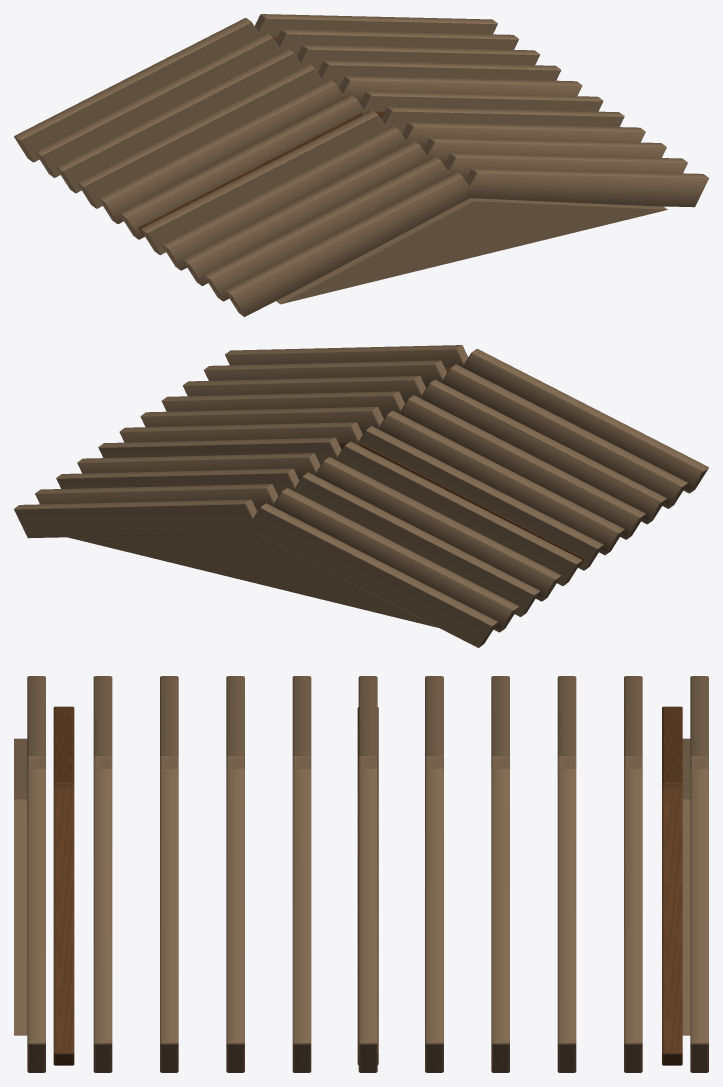
The model's file is retreat_expanded_a2_roof.glb.
The picture shows the model from 3 angles, top to bottom: view 1: azimuth 30°, elevation 25°; view 2: azimuth 150°, elevation 25°; view 3: azimuth 270°, elevation 25°; orthographic projection. The views are drawn at different scales.
Visible parts, largest first — view 1: CANON_Gabled_Roof_-1, CANON_Gabled_Roof_1, CANON_Gable_3.1; view 2: CANON_Gabled_Roof_-1, CANON_Gabled_Roof_1, CANON_Gable_-0.1; view 3: CANON_Gabled_Roof_1, CANON_Gabled_Roof_-1, CANON_Gable_3.1, CANON_Gable_-0.1.
Boxes of the visible parts, x1,y1,x2,y2 form: CANON_Gabled_Roof_-1: (14,18,474,316); CANON_Gabled_Roof_1: (254,14,708,207); CANON_Gable_3.1: (276,198,667,304); CANON_Gabled_Roof_-1: (247,349,708,647); CANON_Gabled_Roof_1: (14,345,468,538); CANON_Gable_-0.1: (68,533,438,627); CANON_Gabled_Roof_1: (27,768,708,1072); CANON_Gabled_Roof_-1: (27,676,708,788); CANON_Gable_3.1: (14,738,27,1035); CANON_Gable_-0.1: (682,738,690,1035).
Size of the model in its own units: 5.56 by 0.9737 by 4.45.
2 materials, 1 textured.
